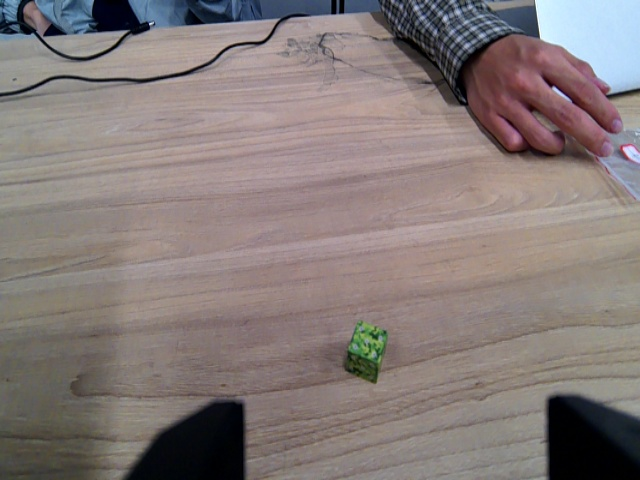grass: (343, 321, 390, 385)
